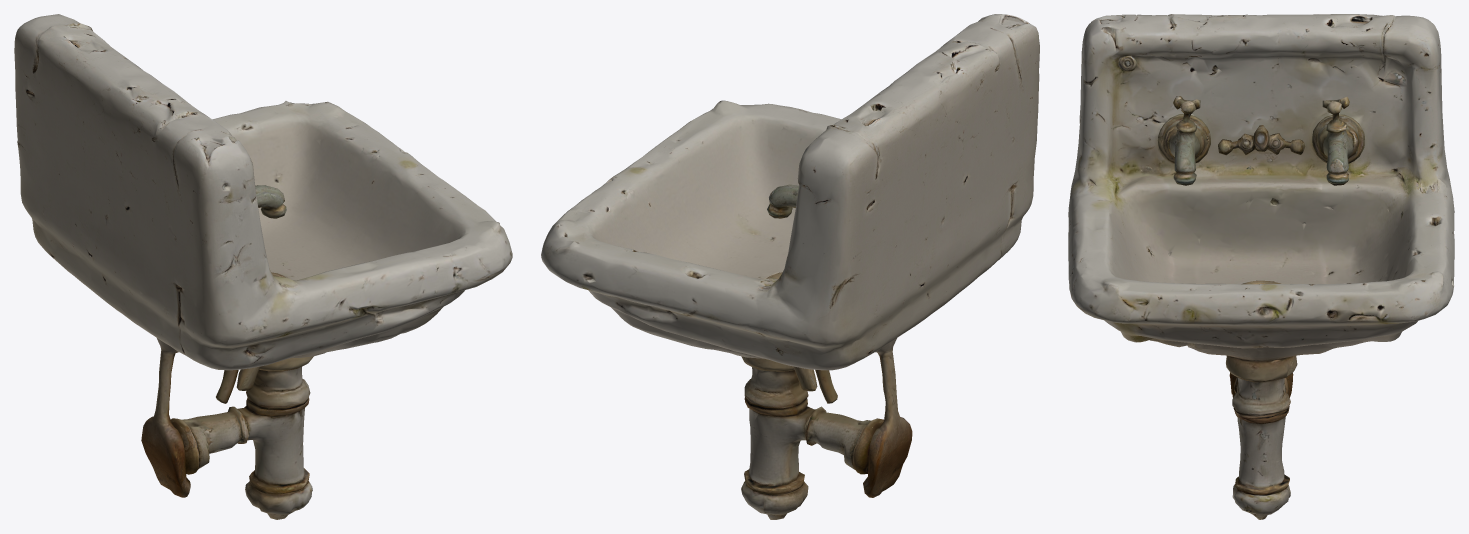
The model's file is scene-sink-wall-v03.glb.
The picture shows the model from 3 angles, left to right: view 1: azimuth 30°, elevation 25°; view 2: azimuth 150°, elevation 25°; view 3: azimuth 270°, elevation 25°; orthographic projection. The views are drawn at different scales.
Parts seen in each view (by area): view 1: tripo_node_135f5a1e-897c-47a3-990c-d613b820cefa; view 2: tripo_node_135f5a1e-897c-47a3-990c-d613b820cefa; view 3: tripo_node_135f5a1e-897c-47a3-990c-d613b820cefa.
Part boxes in pixels (x1=…): tripo_node_135f5a1e-897c-47a3-990c-d613b820cefa: x1=14, y1=14, x2=512, y2=519; tripo_node_135f5a1e-897c-47a3-990c-d613b820cefa: x1=541, y1=14, x2=1039, y2=519; tripo_node_135f5a1e-897c-47a3-990c-d613b820cefa: x1=1068, y1=14, x2=1454, y2=519.
Size of the model in its own units: 0.4699 by 0.65 by 0.5246.
1 material, 1 textured.
